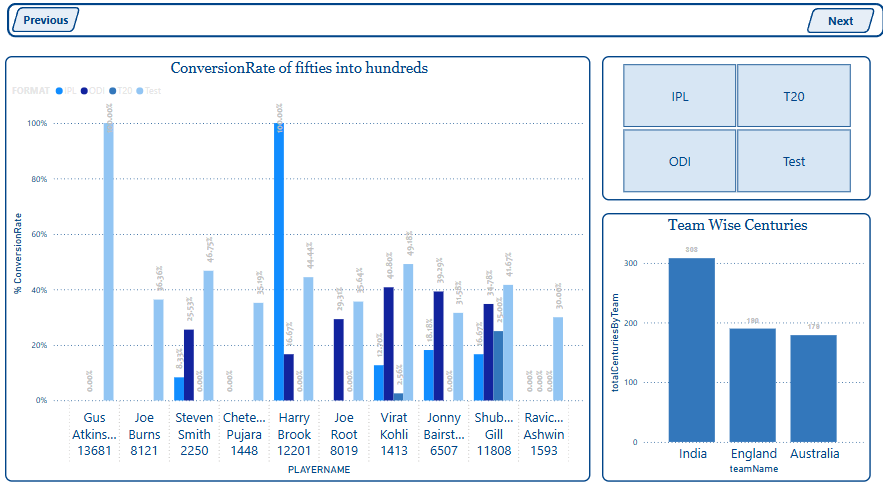

This screenshot's page, from the dashboard's own definition file:
{"tool":"powerbi","page":{"name":"Conversion and centuries","canvas":[1280,720],"ordinal":7},"visuals":[{"type":"clusteredColumnChart","title":"ConversionRate of fifties into hundreds","fields":{"Y":["PLAYER_BATTING_STATS_MAIN.% ConversionRate"],"Category":["PLAYER_BATTING_STATS_MAIN.PLAYERID","PLAYER_BATTING_STATS_MAIN.PLAYERNAME"],"Series":["PLAYER_BATTING_STATS_MAIN.FORMAT"]},"box":[13.3,90,843.3,613.3],"z":0},{"type":"slicer","fields":{"Values":["PLAYER_BATTING_STATS_MAIN.FORMAT"]},"box":[873.3,90,386.7,208.3],"z":1000},{"type":"columnChart","title":"Team Wise Centuries","fields":{"Category":["team_list.teamName","PLAYER_BATTING_STATS_MAIN.PLAYERNAME"],"Y":["team_list.totalCenturiesByTeam"]},"box":[873.3,316.7,386.7,386.7],"z":2000},{"type":"shape","box":[16.2,15,1263.8,49.5],"z":3000,"group":"g1"},{"type":"group","id":"g1","title":"Group 1","box":[16.2,15,1263.8,50],"z":3000},{"type":"actionButton","box":[1167.4,22.2,100,36.2],"z":12000,"group":"g1"},{"type":"actionButton","box":[22.2,20.8,100,36.5],"z":14001,"group":"g1"}]}

Visuals, with their boxes in screenshot pixels (x1, y1, x2, y2), scaled from the page's 1280x720 canvas onto the 883x488 screenshot:
"ConversionRate of fifties into hundreds" clusteredColumnChart: [9, 61, 591, 477]
slicer - PLAYER_BATTING_STATS_MAIN.FORMAT: [602, 61, 869, 202]
"Team Wise Centuries" columnChart: [602, 215, 869, 477]
shape: [11, 10, 882, 44]
"Group 1" group: [11, 10, 882, 44]
actionButton: [805, 15, 874, 40]
actionButton: [15, 14, 84, 39]
